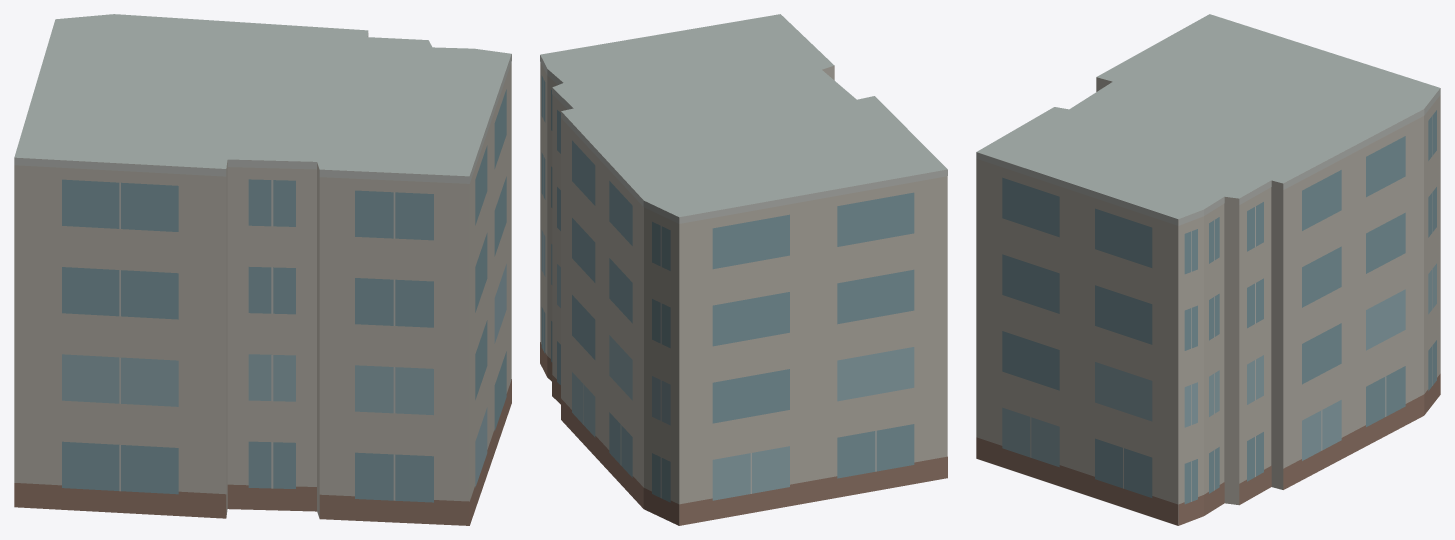
Rendered from survey-upis-32780962.glb.
3 renders of one model, left to right at view 1: azimuth 30°, elevation 25°; view 2: azimuth 150°, elevation 25°; view 3: azimuth 270°, elevation 25°, orthographic. The views are drawn at different scales.
Parts seen in each view (by area): view 1: survey-upis-32780962.tmp; view 2: survey-upis-32780962.tmp; view 3: survey-upis-32780962.tmp.
Boxes of the visible parts, x1,y1,x2,y2 form: survey-upis-32780962.tmp: (14, 14, 511, 525); survey-upis-32780962.tmp: (540, 14, 947, 525); survey-upis-32780962.tmp: (976, 14, 1440, 525).
Size of the model in its own units: 16.09 by 11.2 by 15.38.
